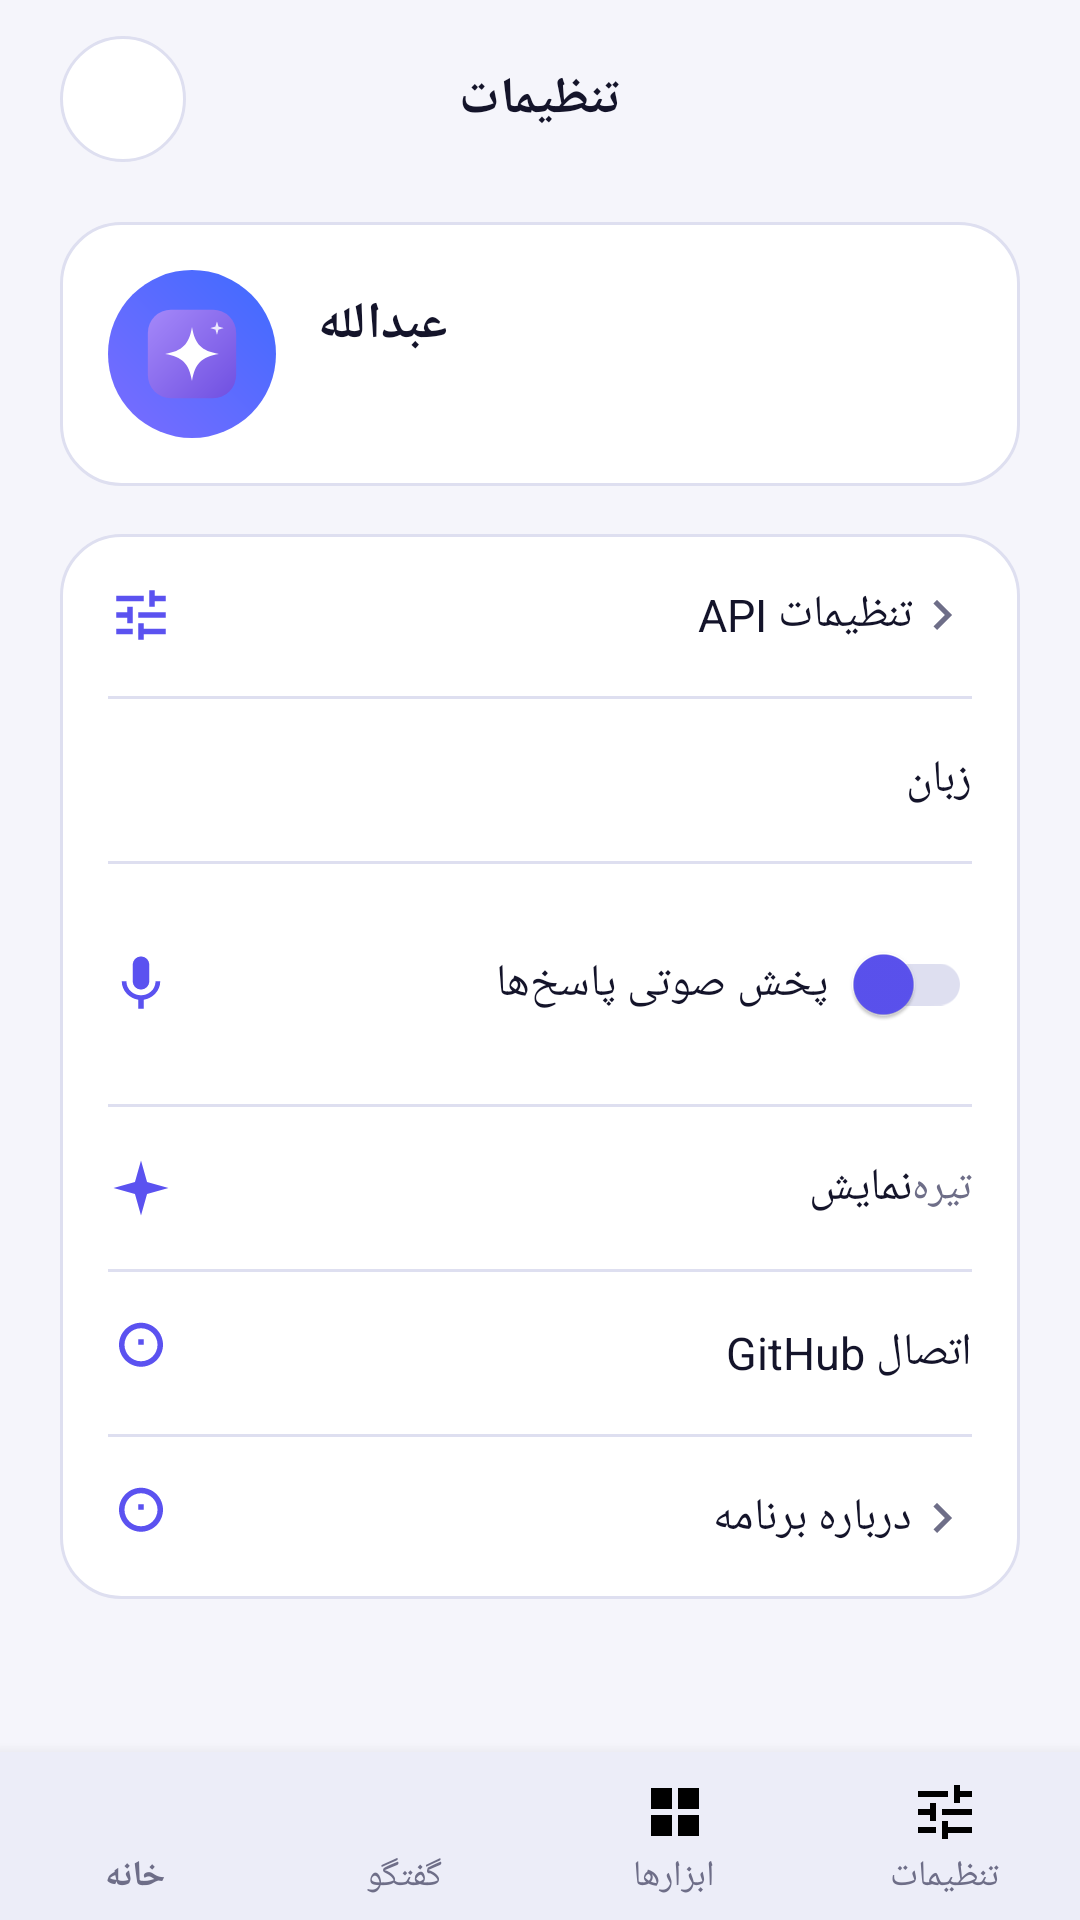

Named icons in this screenshot (1080 x 1920) and their centers, (x=x, y=y):
mic: (x=141, y=982)
settings: (x=141, y=615)
sparkle: (x=141, y=1188)
